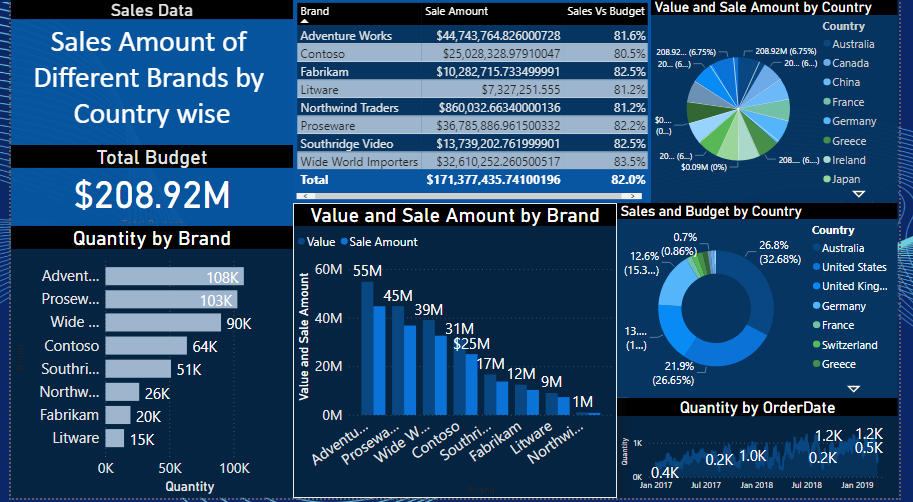

Layout of this report page (visuals, bound fields, positions):
{"tool":"powerbi","page":{"name":"Page 1","canvas":[1280,720],"ordinal":0},"visuals":[{"type":"card","title":"Total Budget","fields":{"Values":["Budget.Total Budget"]},"box":[0,210.7,406.9,116.9],"z":0},{"type":"areaChart","fields":{"Category":["Sales.OrderDate.Variation.Date Hierarchy.Year"],"Y":["Sum(Sales.Quantity)"]},"box":[874.4,575.7,405.5,144.3],"z":1000},{"type":"clusteredBarChart","fields":{"Y":["Sum(Sales.Quantity)"],"Category":["Product.Brand"]},"box":[0,327.5,406.9,392.5],"z":2000},{"type":"clusteredColumnChart","fields":{"Y":["Sum(Budget.Value)","Sales.Sale Amount"],"Category":["Product.Brand"]},"box":[406.9,294.3,467.5,425.7],"z":3000},{"type":"pieChart","fields":{"Category":["Sales.Country"],"Y":["Sum(Budget.Value)","Sales.Sale Amount"]},"box":[923.4,0,356.4,294.3],"z":4000},{"type":"donutChart","title":"Sales and Budget by Country","fields":{"Category":["Sales.Country"],"Y":["Budget.Sales Vs Budget"]},"box":[874.4,294.3,405.5,281.4],"z":5000},{"type":"tableEx","fields":{"Values":["Product.Brand","Sales.Sale Amount","Budget.Sales Vs Budget"]},"box":[406.9,0,516.6,294.3],"z":6000},{"type":"textbox","title":"Sales Data","box":[0,0,406.9,210.7],"z":7000}]}

Visuals, with their boxes in screenshot pixels (x1, y1, x2, y2), scaled from the page's 1280x720 canvas onto the 913x502 screenshot:
"Total Budget" card: [0, 147, 290, 228]
areaChart - Sales.OrderDate.Variation.Date Hierarchy.Year x Sum(Sales.Quantity): [624, 401, 912, 501]
clusteredBarChart - Sum(Sales.Quantity) x Product.Brand: [0, 228, 290, 501]
clusteredColumnChart - Sum(Budget.Value) x Sales.Sale Amount: [290, 205, 624, 501]
pieChart - Sales.Country x Sum(Budget.Value): [659, 0, 912, 205]
"Sales and Budget by Country" donutChart: [624, 205, 912, 401]
tableEx - Product.Brand x Sales.Sale Amount: [290, 0, 659, 205]
"Sales Data" textbox: [0, 0, 290, 147]
